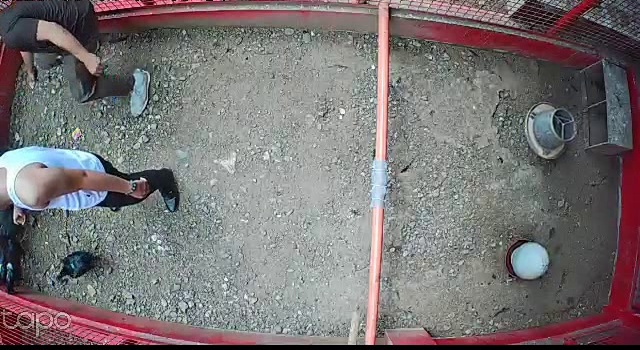Chicken: (54, 248, 96, 285)
Drinker: (502, 238, 551, 282)
Feeder: (522, 101, 578, 160)
